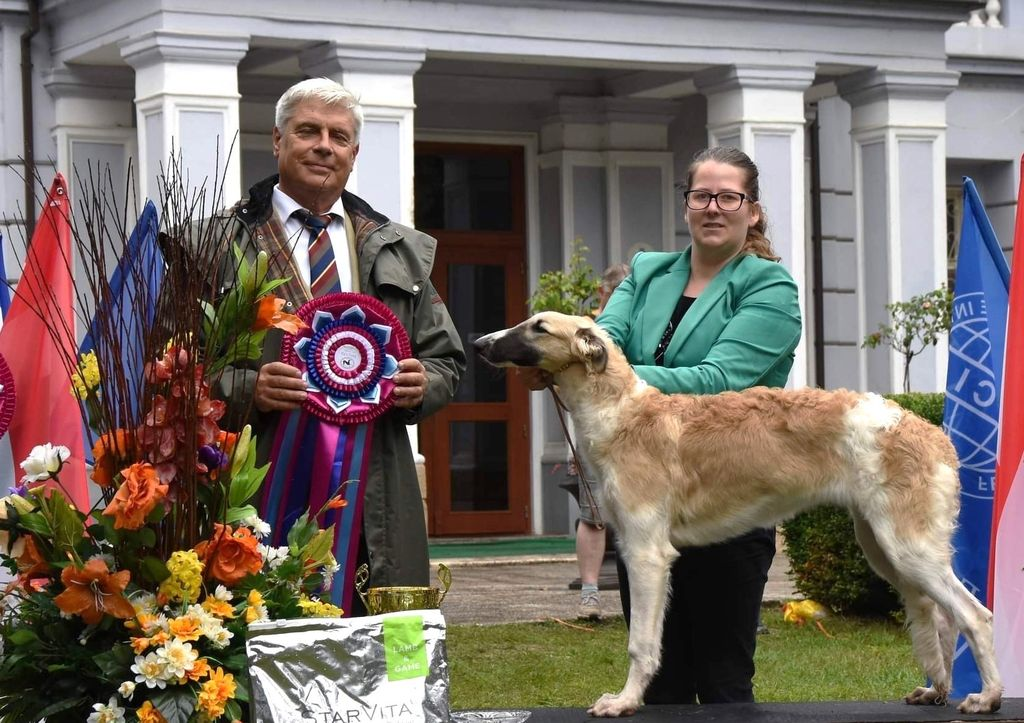borzoi: (476, 304, 1001, 720)
